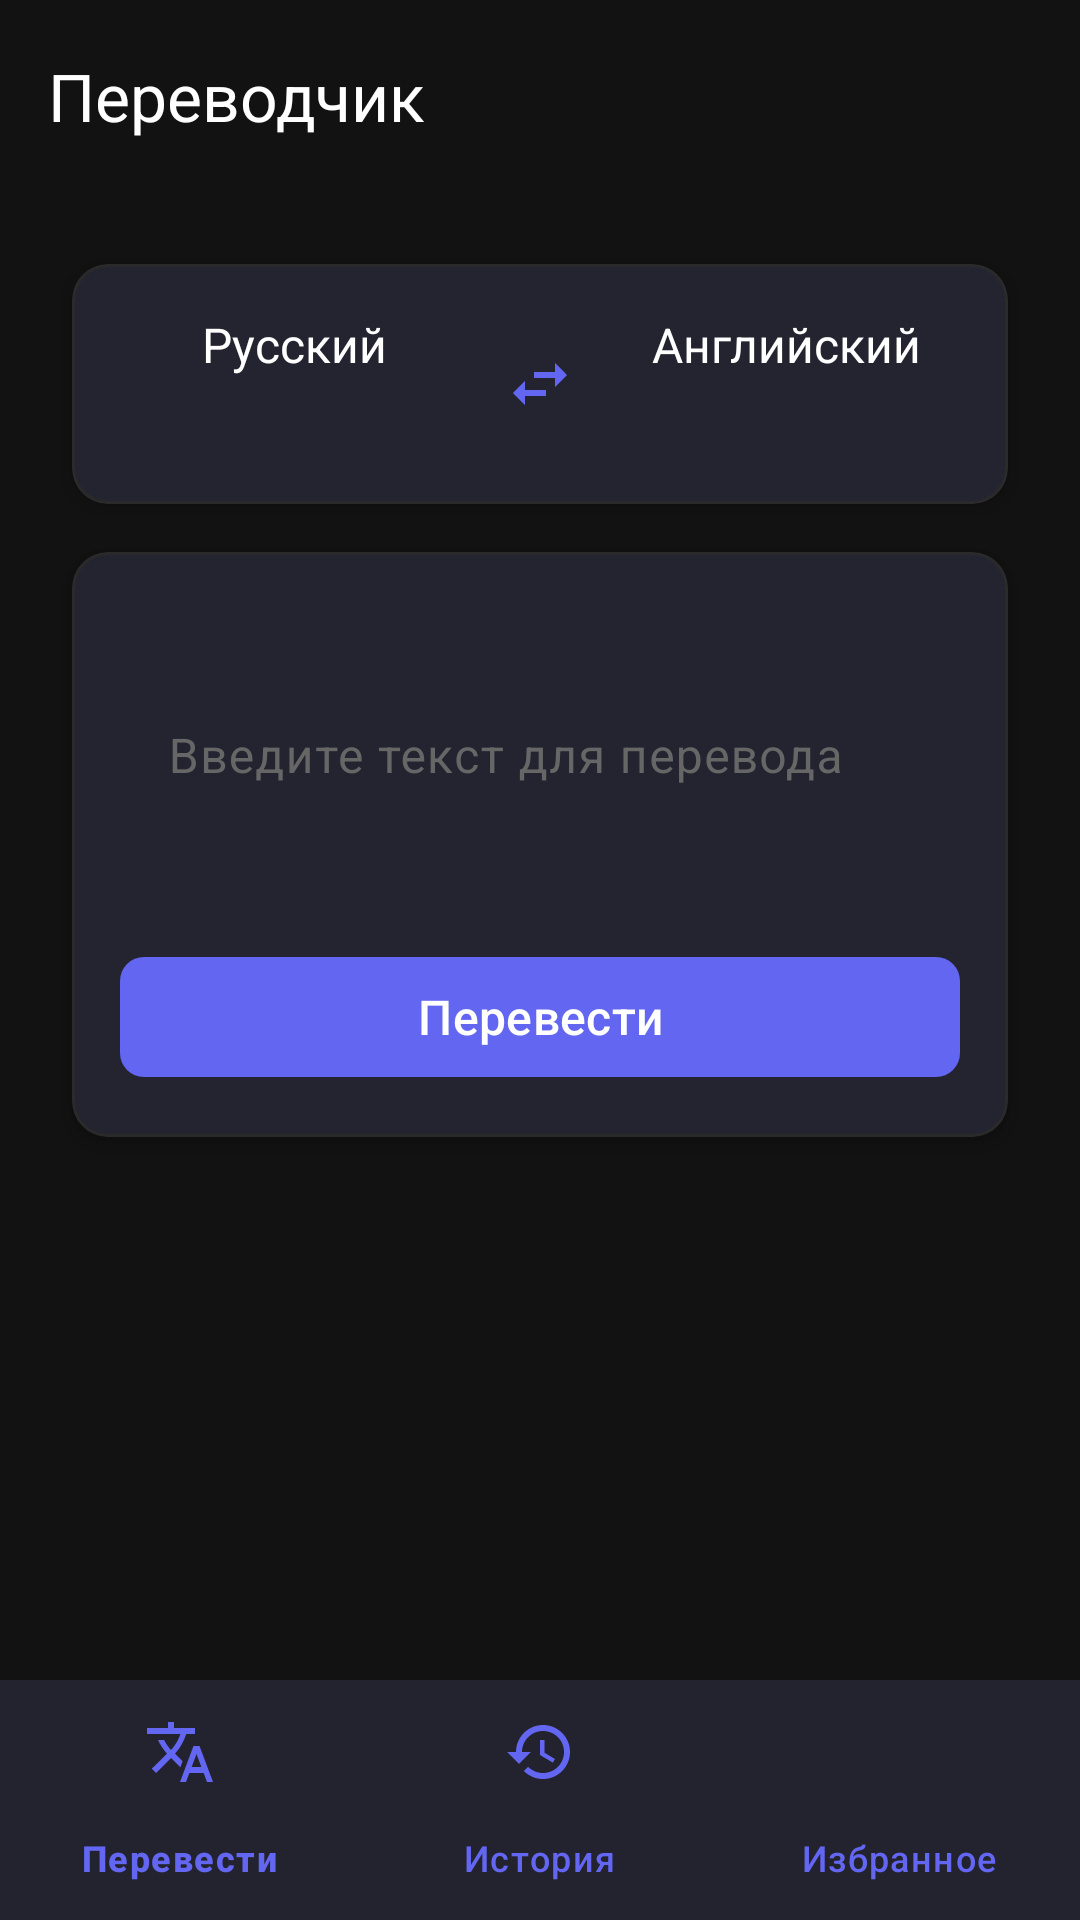

Named icons in this screenshot (1080 × 1920) and their bounding boxes, box(x1, y1, x2, y2):
Поменять языки: box(513, 363, 567, 405)
